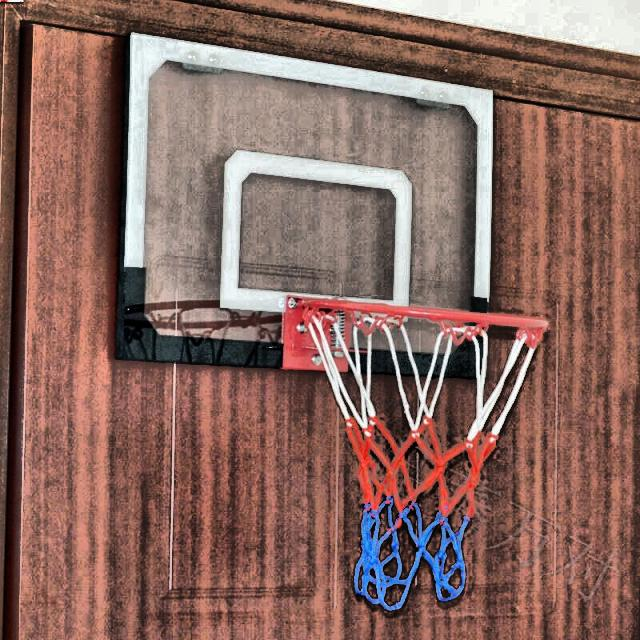rim: (304, 298, 550, 612)
